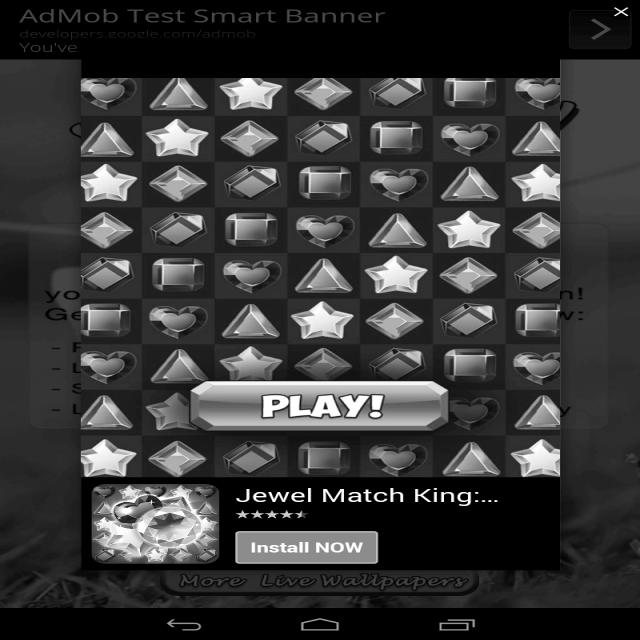Button: (181, 380, 456, 432), (228, 530, 390, 568)
ImageView: (70, 77, 558, 377), (90, 485, 214, 567)
RatingBar: (229, 508, 317, 520)
TextView: (231, 485, 494, 501)
